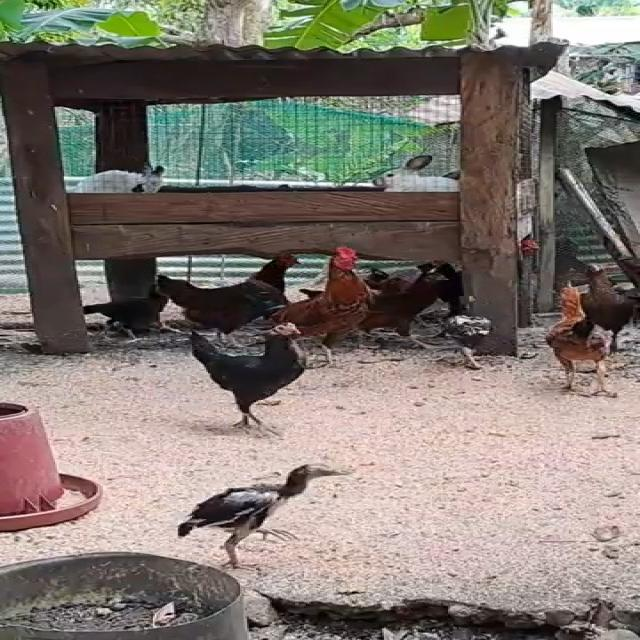running: (178, 449, 370, 570), (186, 312, 332, 430), (269, 232, 389, 336), (165, 248, 307, 329), (536, 288, 632, 390)
